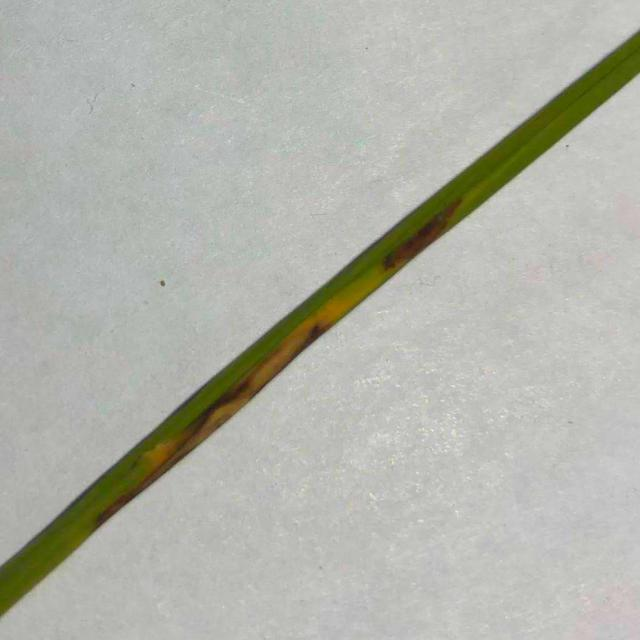Blast: (382, 234, 426, 266), (182, 402, 220, 439), (152, 428, 182, 465), (421, 202, 456, 230), (222, 378, 244, 418), (302, 311, 326, 344), (272, 330, 295, 362), (111, 473, 136, 502), (252, 358, 272, 386), (88, 502, 106, 520)
